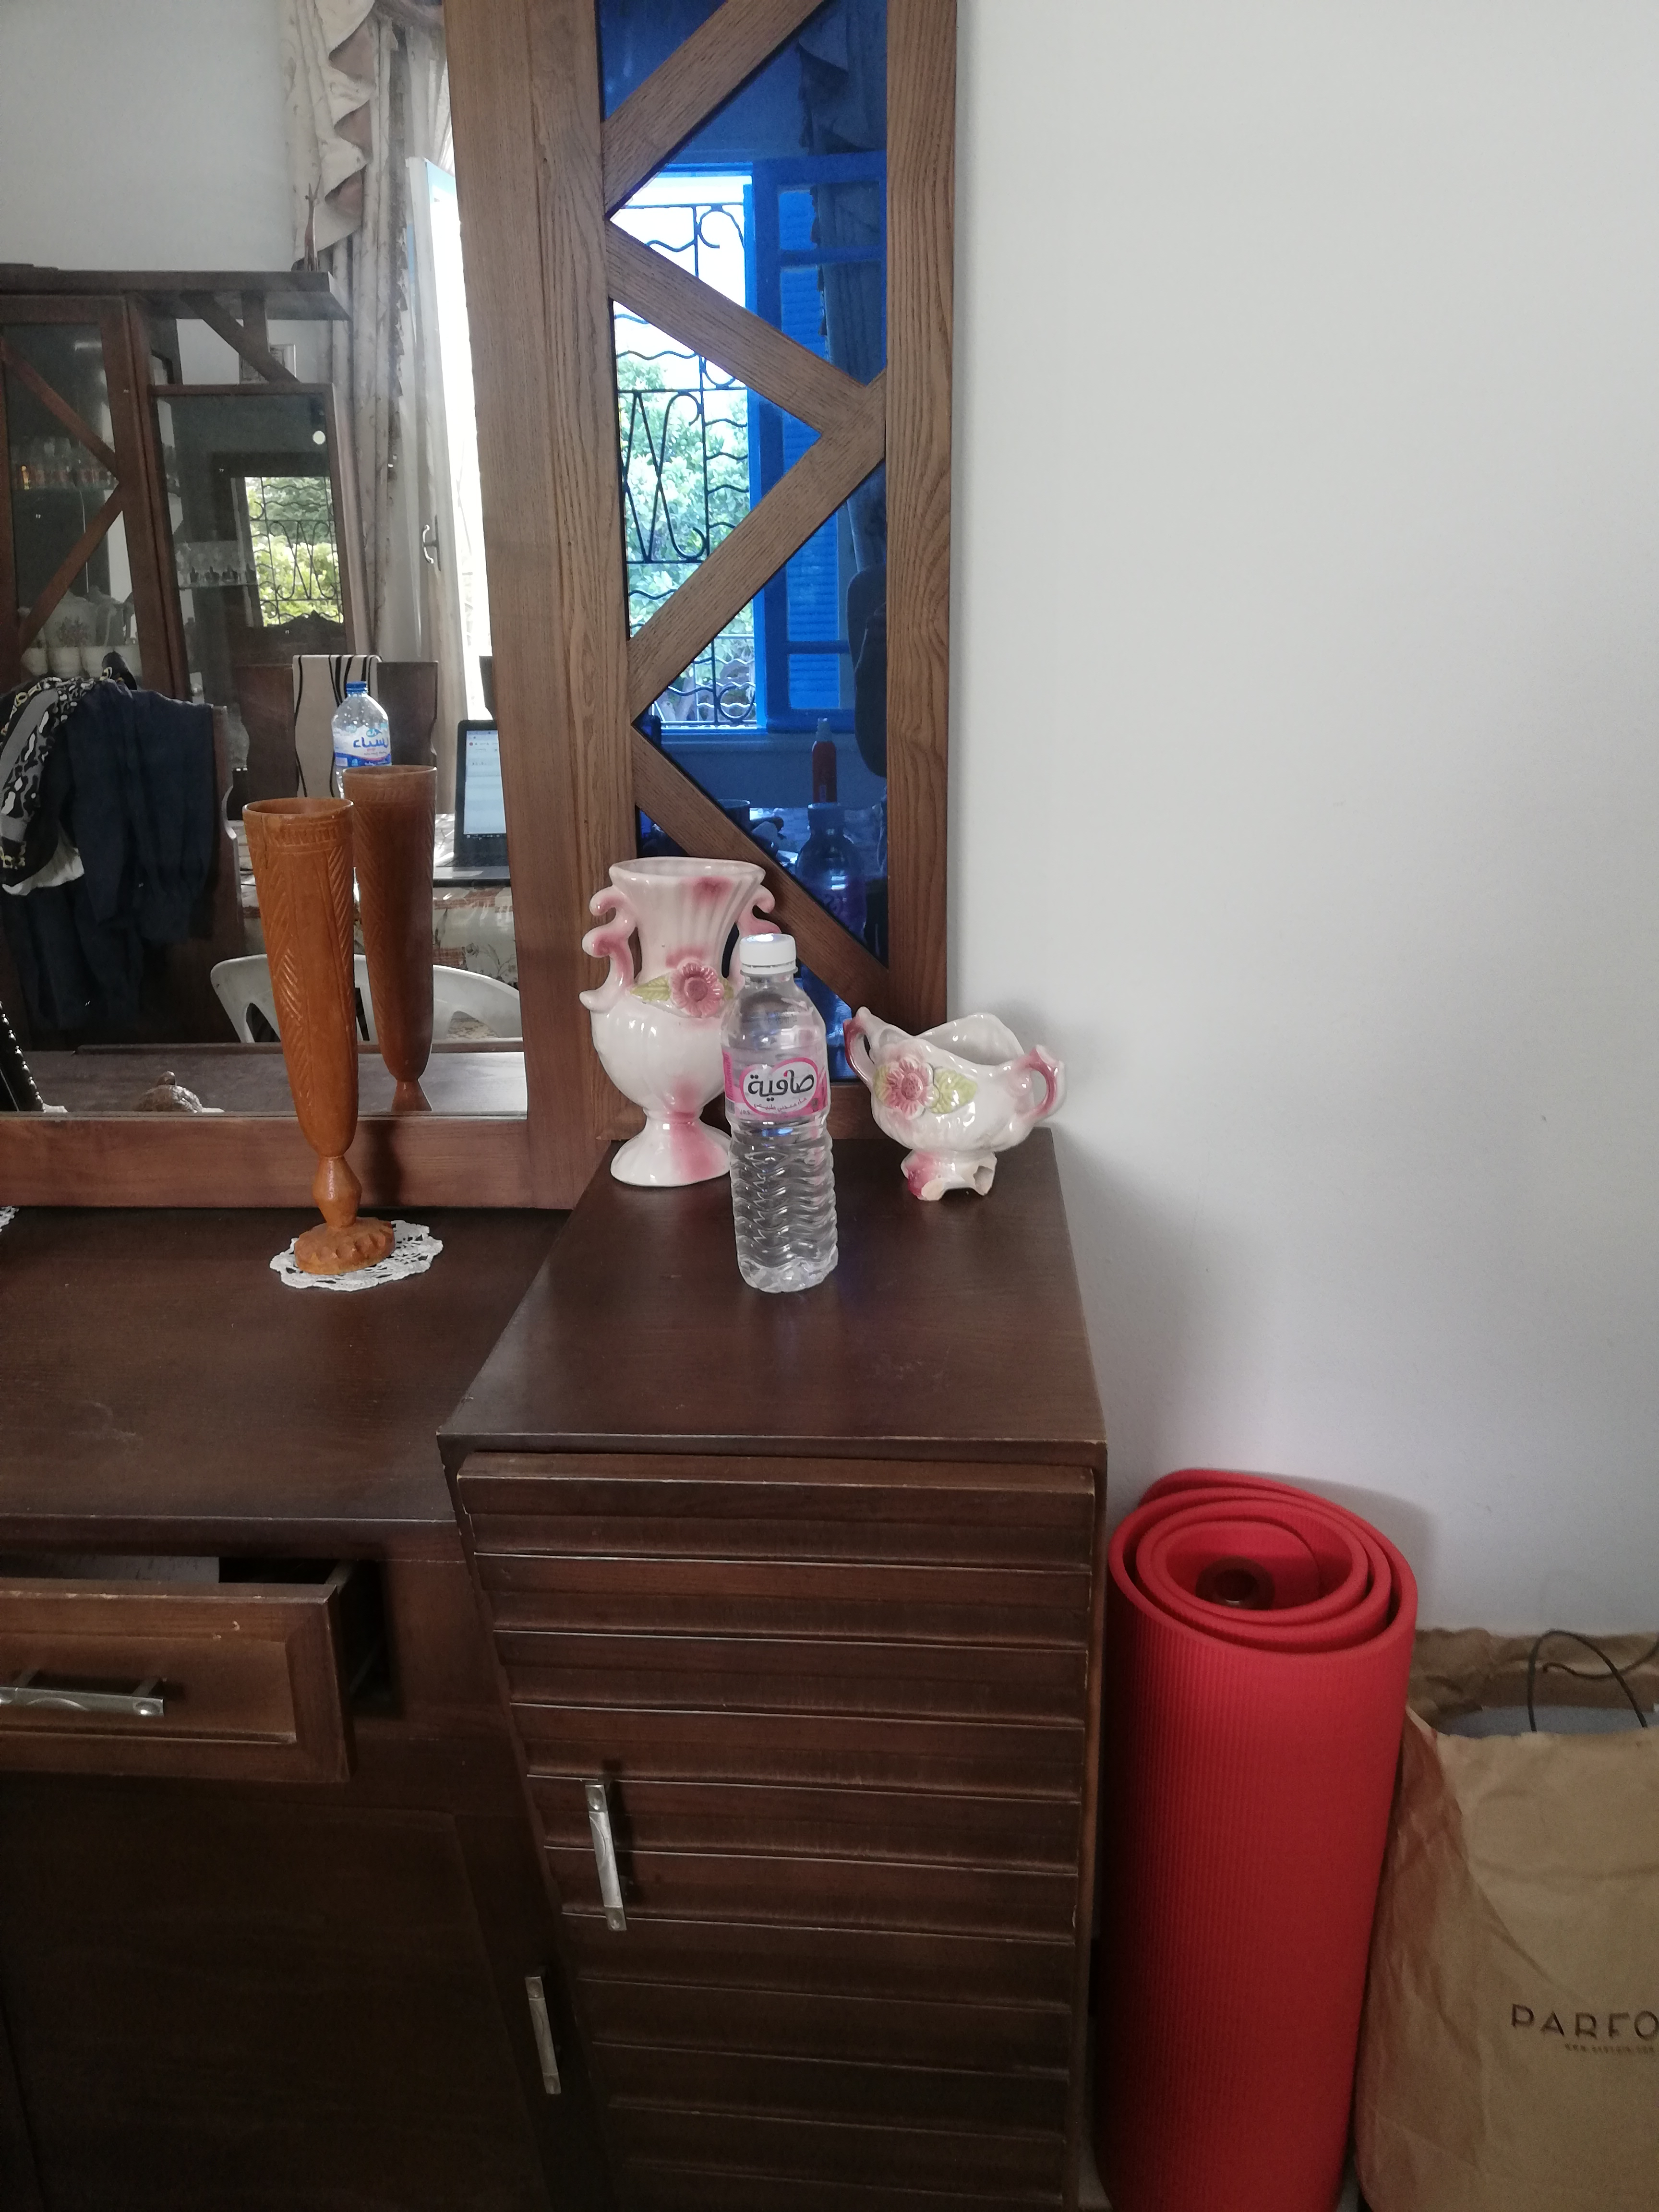Eau safia: (716, 930, 843, 1294)
